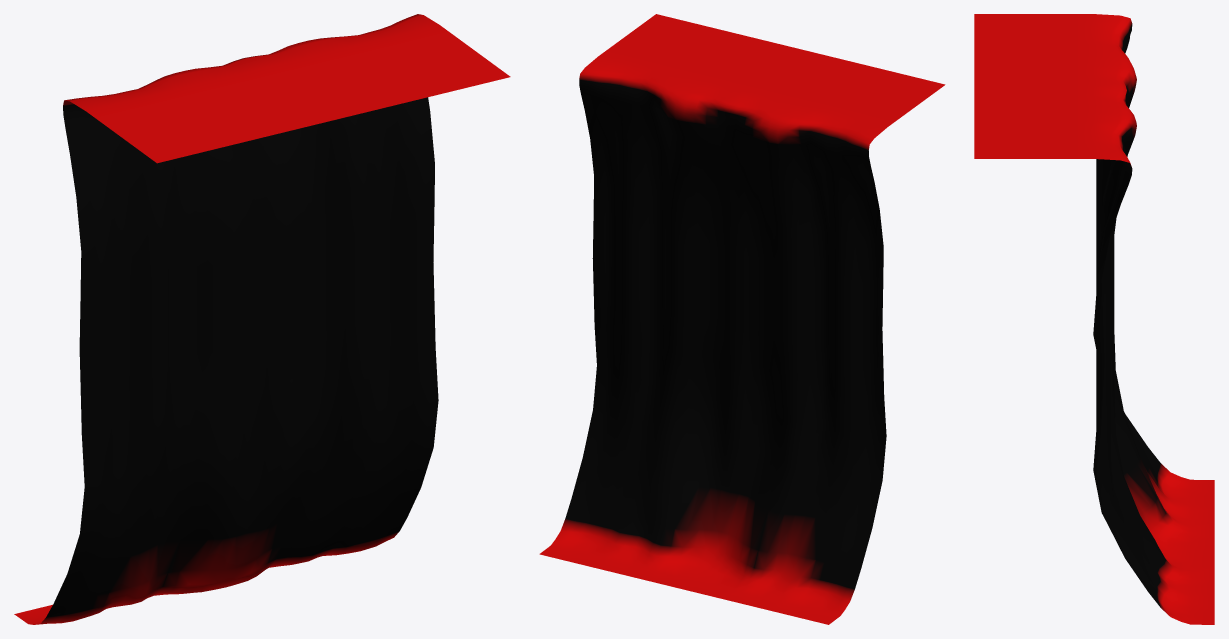
The model's file is GroundCliff01A 3M Foreground.fbx.
The picture shows the model from 3 angles, left to right: view 1: azimuth 30°, elevation 25°; view 2: azimuth 150°, elevation 25°; view 3: azimuth 270°, elevation 25°; orthographic projection. The views are drawn at different scales.
Visible parts, largest first — view 1: GroundCliff01A 3M Foreground; view 2: GroundCliff01A 3M Foreground; view 3: GroundCliff01A 3M Foreground.
Boxes of the visible parts, x1,y1,x2,y2 form: GroundCliff01A 3M Foreground: [14, 14, 510, 624]; GroundCliff01A 3M Foreground: [539, 14, 945, 624]; GroundCliff01A 3M Foreground: [974, 14, 1214, 624].
Size of the model in its own units: 2 by 3 by 1.4.
